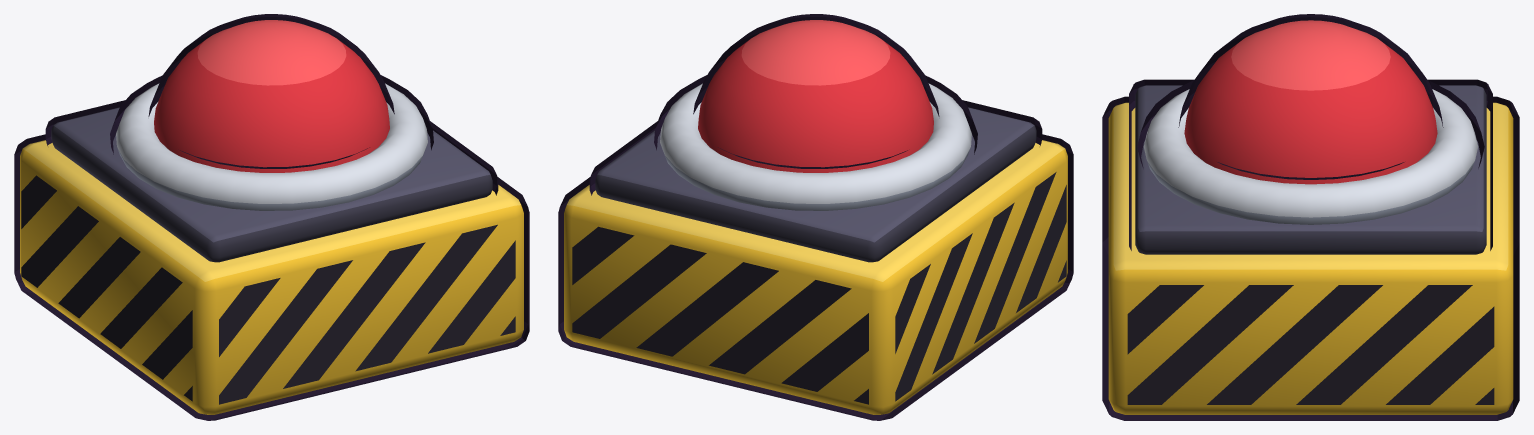
Rendered from SlamButton.glb.
3 renders of one model, left to right at view 1: azimuth 30°, elevation 25°; view 2: azimuth 150°, elevation 25°; view 3: azimuth 270°, elevation 25°, orthographic. The views are drawn at different scales.
Parts seen in each view (by area): view 1: SlamButton, SlamButton_Outline; view 2: SlamButton, SlamButton_Outline; view 3: SlamButton, SlamButton_Outline.
Part boxes in pixels (x1,y1,x2,y2): SlamButton: [20, 20, 523, 414]; SlamButton_Outline: [14, 14, 529, 420]; SlamButton: [564, 20, 1067, 414]; SlamButton_Outline: [558, 14, 1073, 420]; SlamButton: [1108, 20, 1513, 414]; SlamButton_Outline: [1102, 14, 1519, 420].
Size of the model in its own units: 3.92 by 3.26 by 3.92.
Materials: 1 (1 with a texture image).
